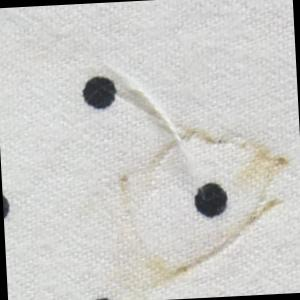Damage: (96, 54, 256, 166)
Oil Stain: (101, 120, 300, 295)
